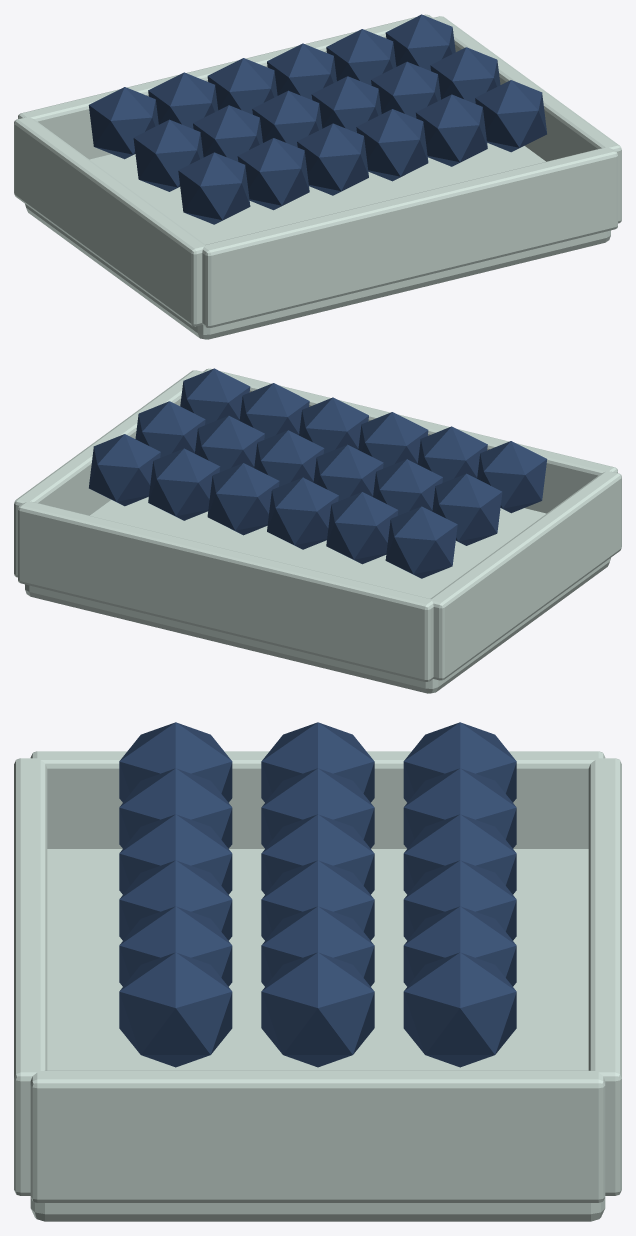
File: blueberries.fbx
3 renders of one model, top to bottom at view 1: azimuth 30°, elevation 25°; view 2: azimuth 150°, elevation 25°; view 3: azimuth 270°, elevation 25°, orthographic. The views are drawn at different scales.
Visible parts, largest first — view 1: blueberries; view 2: blueberries; view 3: blueberries.
Part boxes in pixels (x1,y1,x2,y2): blueberries: (14,14,621,339); blueberries: (14,368,621,693); blueberries: (14,722,621,1221).
Size of the model in its own units: 26.1 by 8.4 by 20.1.
